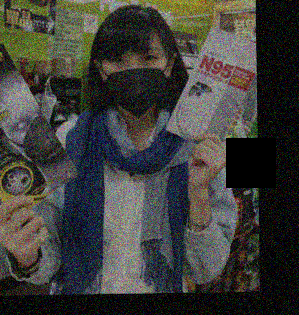with_mask: (100, 45, 169, 117)
